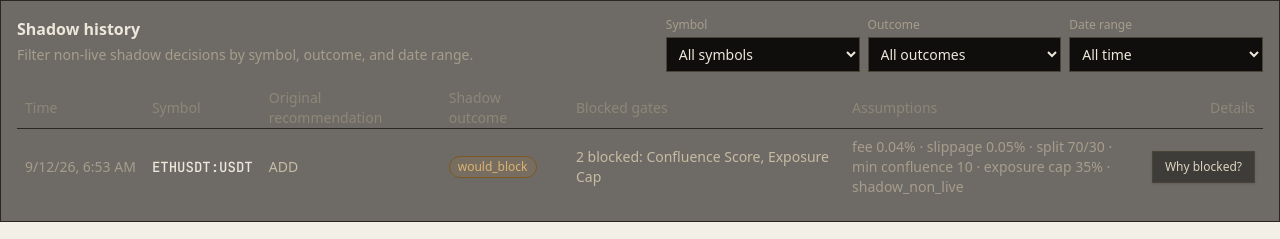
DCA validation panels › filters shadow history by outcome
Select "Would allow" in the dropdown labelled "Outcome" at (964, 54), box [868,37,1061,72]
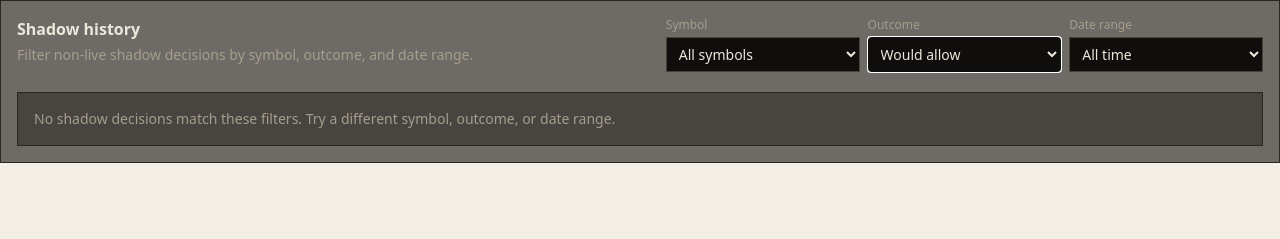
Result: the text "No shadow decisions match these filters. Try a different symbol, outcome, or date range." is shown at [34,109,615,128]
